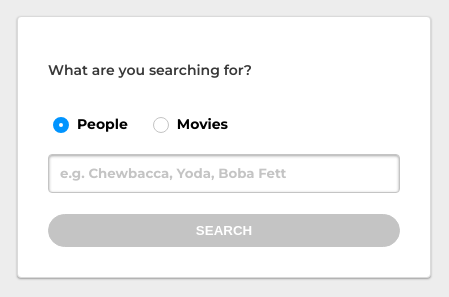
Test: SearchBox › should enable button when input is filled
In the field with placeholder "e.g. Chewbacca, Yoda, Boba Fett": (224,174) [48,154,400,193], type "Yoda"
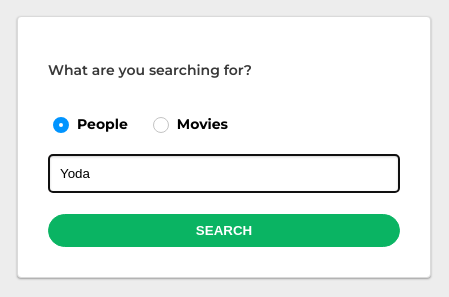
Now the button "SEARCH" is enabled, box [48,214,400,247]
